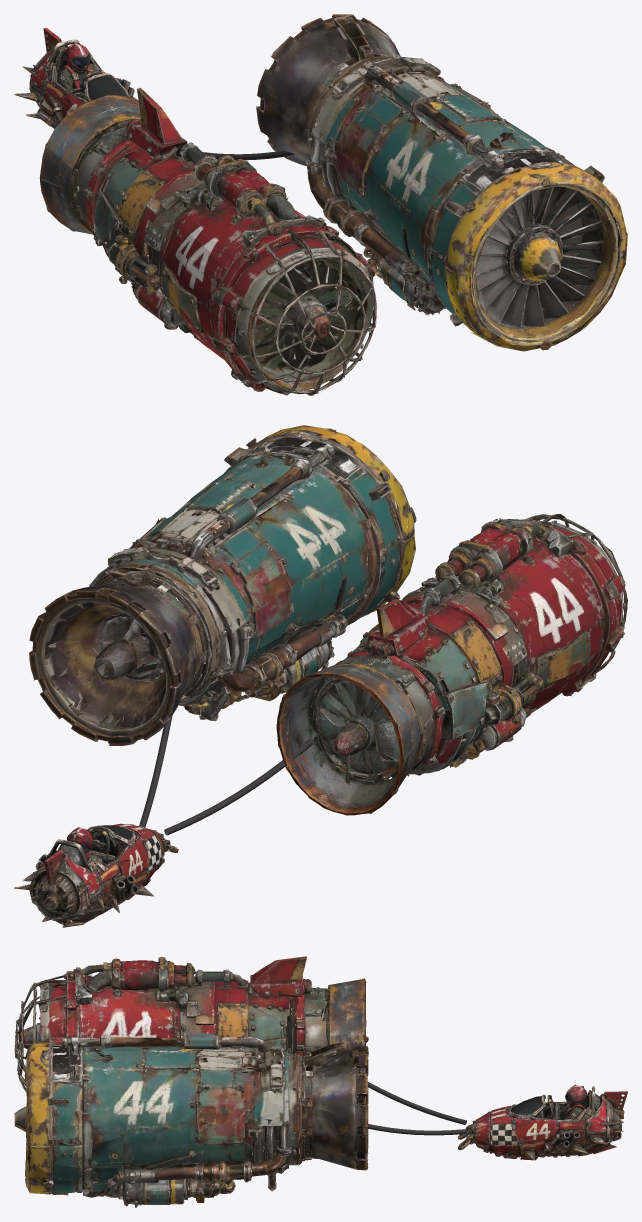
Rendered from scrapjack-hero.glb.
3 renders of one model, top to bottom at view 1: azimuth 30°, elevation 25°; view 2: azimuth 150°, elevation 25°; view 3: azimuth 270°, elevation 25°, orthographic. The views are drawn at different scales.
Visible parts, largest first — view 1: scrapjack-engine-right-body, scrapjack-engine-left-body, scrapjack-cockpit-body; view 2: scrapjack-engine-right-body, scrapjack-engine-left-body, scrapjack-cockpit-body, scrapjack-tow-cables; view 3: scrapjack-engine-right-body, scrapjack-engine-left-body, scrapjack-cockpit-body, scrapjack-tow-cables.
Part boxes in pixels (x1,y1,x2,y2): scrapjack-engine-right-body: [256, 14, 627, 351]; scrapjack-engine-left-body: [39, 87, 376, 395]; scrapjack-cockpit-body: [14, 28, 134, 131]; scrapjack-engine-right-body: [29, 425, 416, 745]; scrapjack-engine-left-body: [276, 514, 627, 815]; scrapjack-cockpit-body: [14, 823, 178, 927]; scrapjack-tow-cables: [139, 713, 313, 835]; scrapjack-engine-right-body: [14, 1033, 368, 1207]; scrapjack-engine-left-body: [14, 956, 368, 1092]; scrapjack-cockpit-body: [458, 1084, 627, 1160]; scrapjack-tow-cables: [368, 1082, 466, 1135].
Bounding box in the file's own units: 15.32 × 7.57 × 26.73.
Materials: 4 (3 with a texture image).
